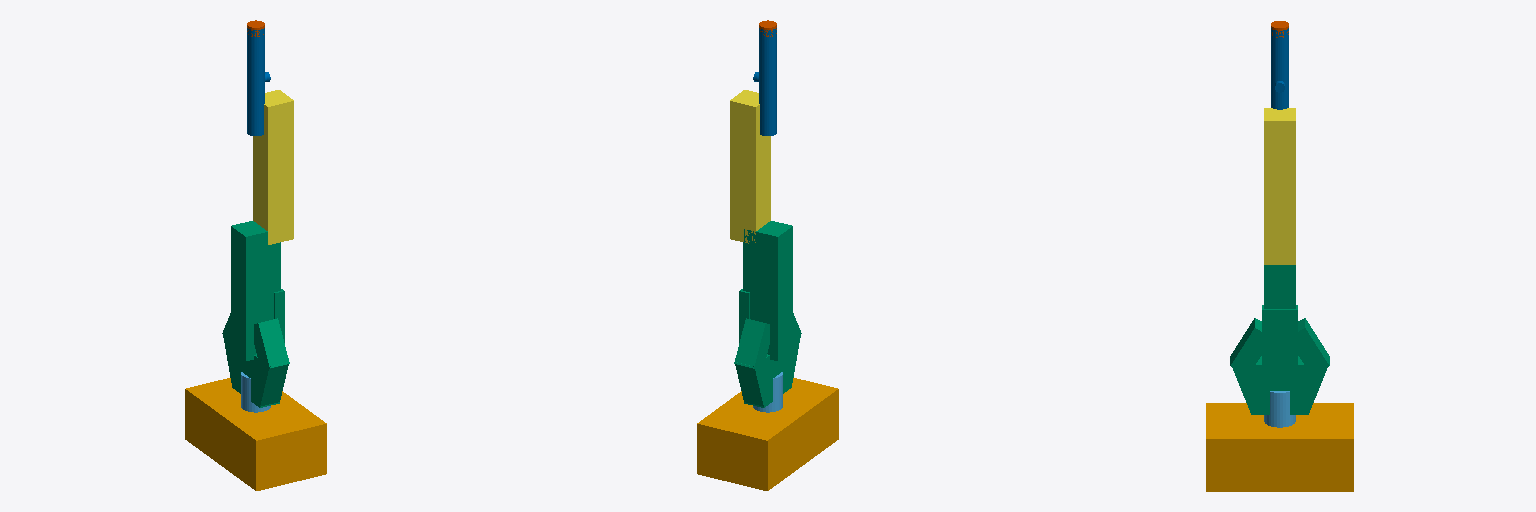
robot.urdf — r12:
<?xml version="1.0"?>
<robot name="r12">
	<link name="base_link">
		<visual>
			<origin rpy="0 0 0" xyz="0 0 0.04"/>
			<geometry>
				<box size="0.16 0.28 0.11"/>
			</geometry>
		</visual>
		<collision>
			<origin rpy="0 0 0" xyz="0 0 0.04"/>
			<geometry>
				<box size="0.16 0.28 0.11"/>
			</geometry>
		</collision>
	</link>

	<joint name="waist_joint" type="revolute">
		<parent link="base_link"/>
		<child link="waist_shoulder_link"/>
		<origin xyz="0 0 0.0925" rpy="0 0 0"/>
		<limit lower="-1.39626" upper="1.39626" effort="0.1" velocity="2"/>
		<axis xyz="0 0 -1"/>
	</joint>

	<link name="waist_shoulder_link">
		<visual>
			<origin rpy="0 0 0" xyz="0 0 0"/>
			<geometry>
				<cylinder radius="0.03" length="0.15"/>
			</geometry>
		</visual>
		<!--visual>
            <origin rpy="0 0 0" xyz="0.055 0 0.1315"/>
            <geometry>
                <box size="0.02 0.06 0.238"/>
            </geometry>
        </visua l-->
		<collision>
			<origin rpy="0 0 0" xyz="0 0 0"/>
			<geometry>
				<cylinder radius="0.03" length="0.15"/>
			</geometry>
		</collision>
		<!--collision>
            <origin rpy="0 0 0" xyz="0.055 0 0.1315"/>
            <geometry>
                <box size="0.02 0.06 0.238"/>
            </geometry>
        </collision-->
	</link>

	<joint name="shoulder_joint" type="revolute">
		<parent link="waist_shoulder_link"/>
		<child link="shoulder_elbow_link"/>
		<origin xyz="0 0 0.2105" rpy="0 0 0"/>
		<limit lower="-1.57079" upper="0" effort="0.1" velocity="2"/>
		<axis xyz="-1 0 0"/>
	</joint>

	<link name="shoulder_elbow_link">
		<visual>
			<origin rpy="0 0 0" xyz="0 0 0.045"/>
			<geometry>
				<box size="0.08 0.06 0.27"/>
			</geometry>
		</visual>
		<visual>
			<origin rpy="0 0 0" xyz="0 0 -0.1325"/>
			<geometry>
				<box size="0.045 0.11094 0.105"/>
			</geometry>
		</visual>
		<visual>
			<origin rpy="0 0 0" xyz="0.03375 0 -0.03"/>
			<geometry>
				<box size="0.0225 0.07 0.15"/>
			</geometry>
		</visual>
		<visual>
			<origin rpy="-1.0472 0 0" xyz="0 0.053659 -0.053333"/>
			<geometry>
				<box size="0.045 0.092376 0.04"/>
			</geometry>
		</visual>
		<visual>
			<origin rpy="-0.349 0 0" xyz="0 0.053 -0.12506"/>
			<geometry>
				<box size="0.045 0.043403 0.111739"/>
			</geometry>
		</visual>
		<visual>
			<origin rpy="1.0472 0 0" xyz="0 -0.053659 -0.053333"/>
			<geometry>
				<box size="0.045 0.092376 0.04"/>
			</geometry>
		</visual>
		<visual>
			<origin rpy="0.349 0 0" xyz="0 -0.053 -0.12506"/>
			<geometry>
				<box size="0.045 0.043403 0.111739"/>
			</geometry>
		</visual>
		<collision>
			<origin rpy="0 0 0" xyz="0 0 0.045"/>
			<geometry>
				<box size="0.08 0.06 0.27"/>
			</geometry>
		</collision>
		<collision>
			<origin rpy="0 0 0" xyz="0 0 -0.1325"/>
			<geometry>
				<box size="0.045 0.11094 0.105"/>
			</geometry>
		</collision>
		<collision>
			<origin rpy="-1.0472 0 0" xyz="0 0.053659 -0.053333"/>
			<geometry>
				<box size="0.045 0.092376 0.04"/>
			</geometry>
		</collision>
		<collision>
			<origin rpy="-0.349 0 0" xyz="0 0.053 -0.12506"/>
			<geometry>
				<box size="0.045 0.043403 0.111739"/>
			</geometry>
		</collision>
		<collision>
			<origin rpy="1.0472 0 0" xyz="0 -0.053659 -0.053333"/>
			<geometry>
				<box size="0.045 0.092376 0.04"/>
			</geometry>
		</collision>
		<collision>
			<origin rpy="0.349 0 0" xyz="0 -0.053 -0.12506"/>
			<geometry>
				<box size="0.045 0.043403 0.111739"/>
			</geometry>
		</collision>
		<collision>
			<origin rpy="0 0 0" xyz="0.03375 0 -0.03"/>
			<geometry>
				<box size="0.0225 0.07 0.15"/>
			</geometry>
		</collision>
	</link>

	<joint name="elbow_joint" type="revolute">
		<parent link="shoulder_elbow_link"/>
		<child link="elbow_hand_link"/>
		<origin xyz="0.04 0 0.25" rpy="0 0 0"/>
		<limit lower="0" upper="1.57079" effort="0.1" velocity="2"/>
		<axis xyz="1 0 0"/>
	</joint>

	<link name="elbow_hand_link">
		<visual>
			<origin rpy="0 0 0" xyz="0 0 0.05"/>
			<geometry>
				<box size="0.06 0.06 0.3"/>
			</geometry>
		</visual>
		<visual>
			<origin rpy="0 -1.5708 0" xyz="-0.015 0 0"/>
			<geometry>
				<cylinder radius="0.02" length="0.005"/>
			</geometry>
		</visual>
		<collision>
			<origin rpy="0 0 0" xyz="0 0 0.05"/>
			<geometry>
				<box size="0.06 0.06 0.3"/>
			</geometry>
		</collision>
		<collision>
			<origin rpy="0 -1.5708 0" xyz="-0.015 0 0"/>
			<geometry>
				<cylinder radius="0.02" length="0.005"/>
			</geometry>
		</collision>
	</link>

	<joint name="hand_joint" type="revolute">
		<parent link="elbow_hand_link"/>
		<child link="hand_wrist_link"/>
		<origin xyz="-0.04 0 0.25" rpy="0 0 0"/>
		<limit lower="0" upper="1.57079" effort="0.1" velocity="2"/>
		<axis xyz="1 0 0"/>
	</joint>

	<link name="hand_wrist_link">
		<visual>
			<origin rpy="0 0 0" xyz="0 0 0"/>
			<geometry>
				<cylinder radius="0.0175" length="0.23"/>
			</geometry>
		</visual>
		<visual>
			<origin rpy="0 -1.5708 0" xyz="0.01375 0 0"/>
			<geometry>
				<cylinder radius="0.01" length="0.0275"/>
			</geometry>
		</visual>
		<collision>
			<origin rpy="0 0 0" xyz="0 0 0"/>
			<geometry>
				<cylinder radius="0.0175" length="0.23"/>
			</geometry>
		</collision>
		<collision>
			<origin rpy="0 -1.5708 0" xyz="0.01375 0 0"/>
			<geometry>
				<cylinder radius="0.01" length="0.0275"/>
			</geometry>
		</collision>
	</link>

	<joint name="wrist_joint" type="revolute">
		<parent link="hand_wrist_link"/>
		<child link="wrist_tool_link"/>
		<origin xyz="0 0 0.10" rpy="0 0 0"/>
		<limit lower="-3.14159" upper="3.14159" effort="0.1" velocity="0.005"/>
		<axis xyz="0 0 1"/>
	</joint>

	<link name="wrist_tool_link">
		<visual>
			<origin rpy="0 0 0" xyz="0 0 0.01"/>
			<geometry>
				<cylinder radius="0.0175" length="0.02"/>
			</geometry>
		</visual>
		<collision>
			<origin rpy="0 0 0" xyz="0 0 0.01"/>
			<geometry>
				<cylinder radius="0.0175" length="0.02"/>
			</geometry>
		</collision>
	</link>

</robot>

--- Render facts (derived) ---
3 views of the same robot in one strip: view 1: azimuth 30°, elevation 25°; view 2: azimuth 150°, elevation 25°; view 3: azimuth 270°, elevation 25° (orthographic).
Model r12 with 6 links and 5 joints (5 revolute), rooted at base_link, posed all joints at 0.
Visible links, largest first — view 1: base_link, shoulder_elbow_link, elbow_hand_link, hand_wrist_link; view 2: base_link, shoulder_elbow_link, elbow_hand_link, hand_wrist_link; view 3: base_link, shoulder_elbow_link, elbow_hand_link, hand_wrist_link, waist_shoulder_link.
Link boxes in pixels (x1,y1,x2,y2): base_link: (185, 378, 326, 490); shoulder_elbow_link: (222, 221, 289, 407); elbow_hand_link: (253, 90, 293, 244); hand_wrist_link: (247, 28, 270, 135); base_link: (697, 378, 838, 490); shoulder_elbow_link: (734, 221, 801, 407); elbow_hand_link: (730, 90, 770, 243); hand_wrist_link: (753, 28, 776, 135); base_link: (1206, 403, 1353, 491); shoulder_elbow_link: (1230, 265, 1329, 414); elbow_hand_link: (1264, 108, 1295, 264); hand_wrist_link: (1271, 28, 1288, 109); waist_shoulder_link: (1264, 391, 1295, 427).
Size in the robot's own frame: 0.16 by 0.28 by 0.938 metres.
Geometry: primitives only (box / cylinder / sphere), no mesh files.